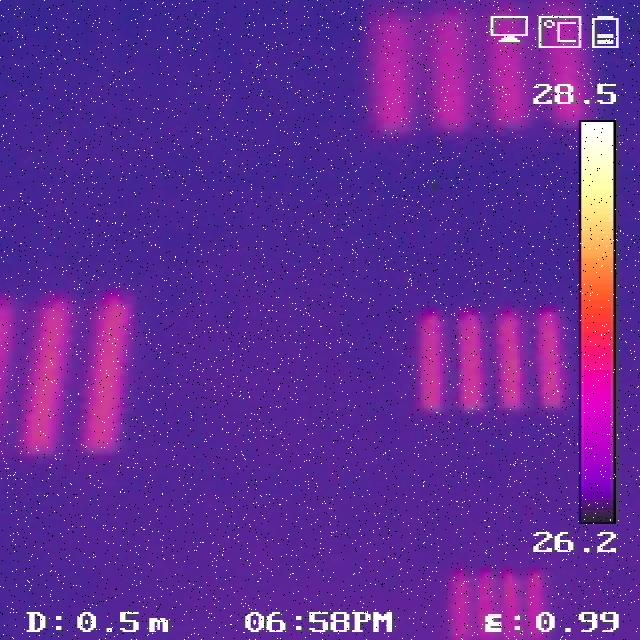Distinguishable 4-bar target: (374, 7, 594, 129), (0, 291, 133, 455), (419, 308, 568, 408), (448, 566, 548, 634)
